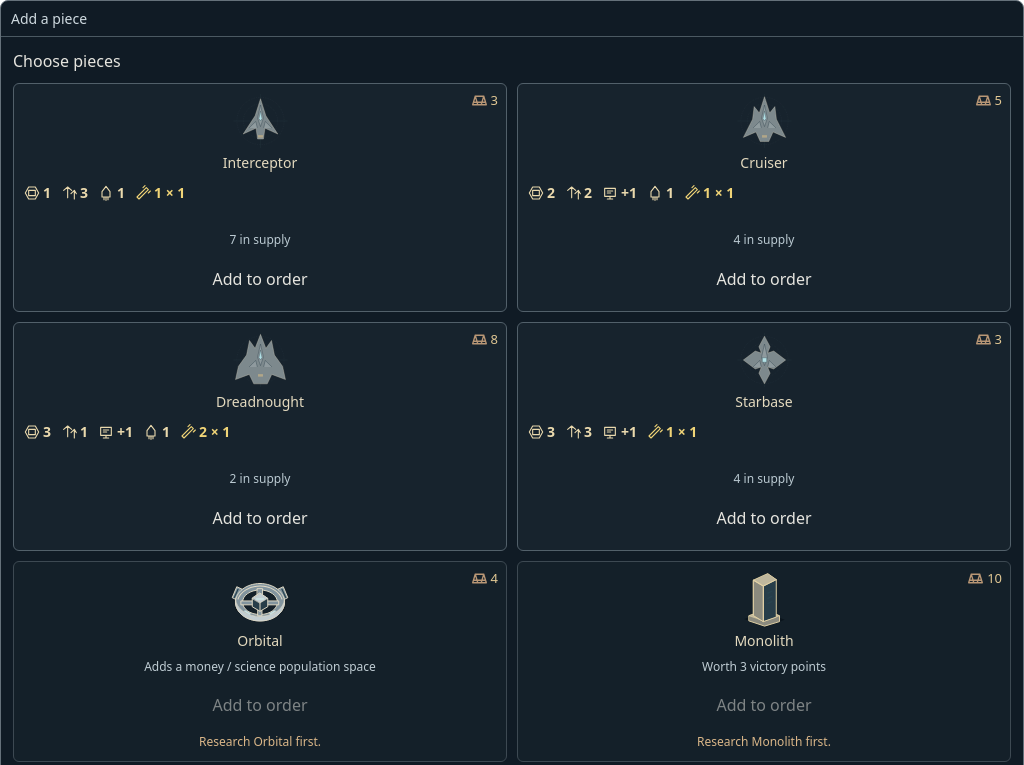
it: uses inspectable capability icons on Build pieces and omits empty equipment values
The width and height of the screenshot is (1024, 765).
expect the picture named "hit points: 1" is shown: met, box [24,182,51,203]
Click the heading named "Inspect Interceptor capabilities" at (105, 192), box [24,182,185,202]
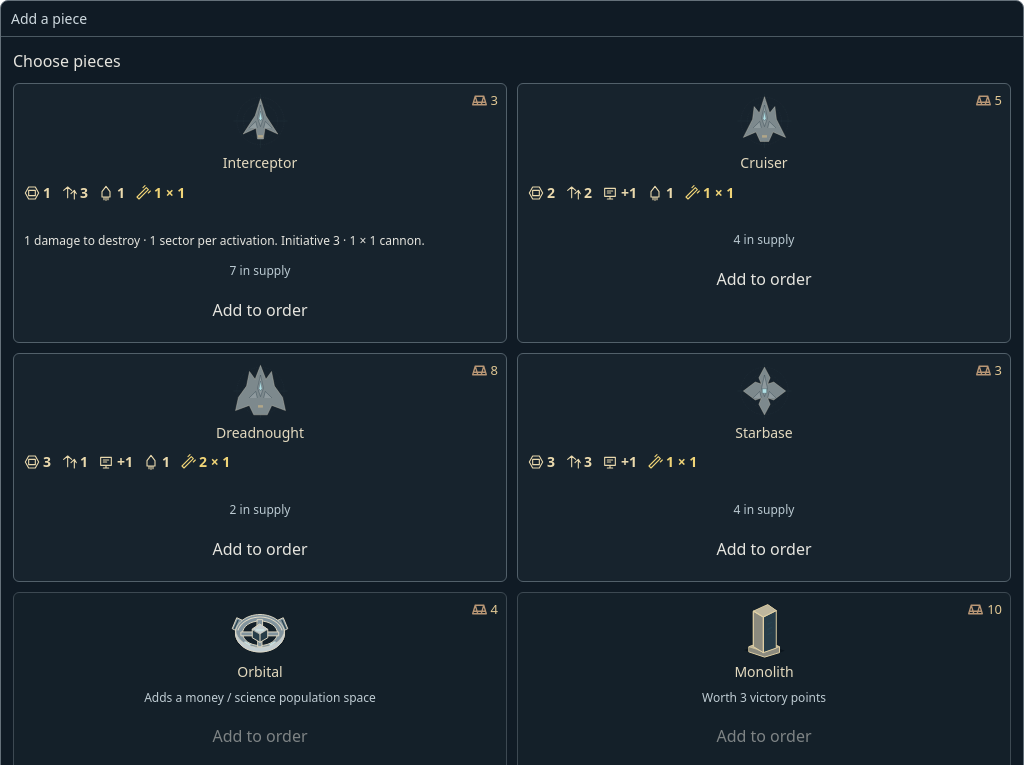
expect the text "sector per activation" is shown: met, box [24,232,425,249]
